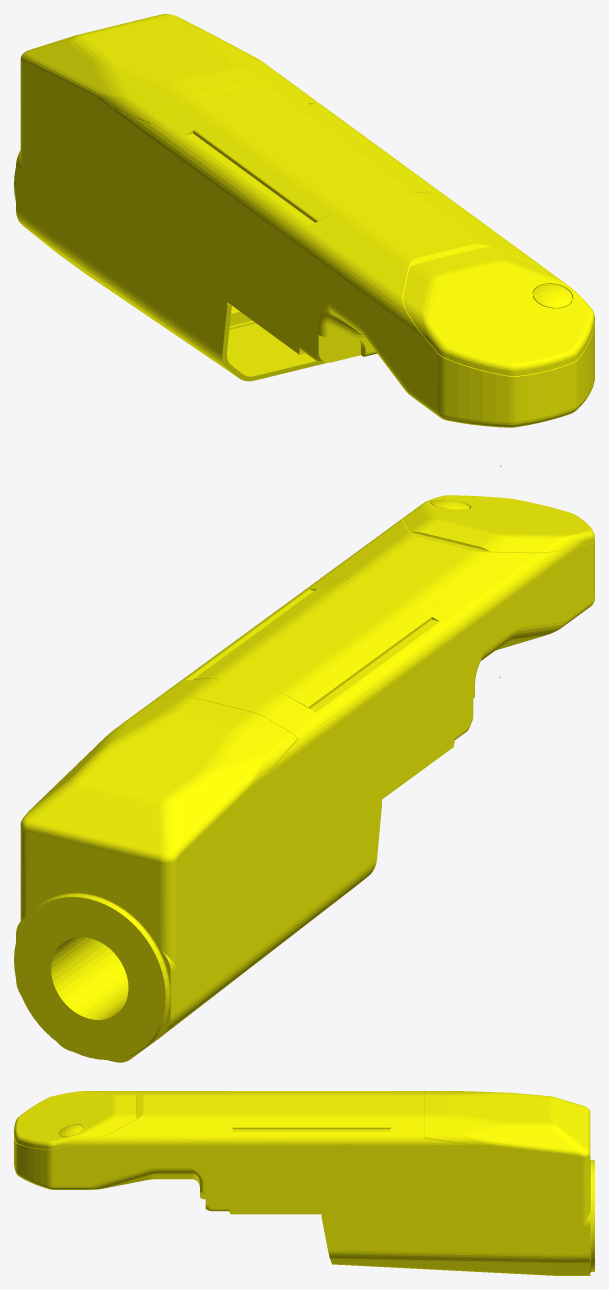
3 renders of one model, top to bottom at view 1: azimuth 30°, elevation 25°; view 2: azimuth 150°, elevation 25°; view 3: azimuth 270°, elevation 25°, orthographic. The views are drawn at different scales.
Parts seen in each view (by area): view 1: node; view 2: node; view 3: node.
Boxes of the visible parts, bbox=[...] form: node: bbox=[14, 14, 594, 466]; node: bbox=[14, 495, 594, 1062]; node: bbox=[14, 1091, 594, 1275].
Size of the model in its own units: 100 by 158 by 511.
